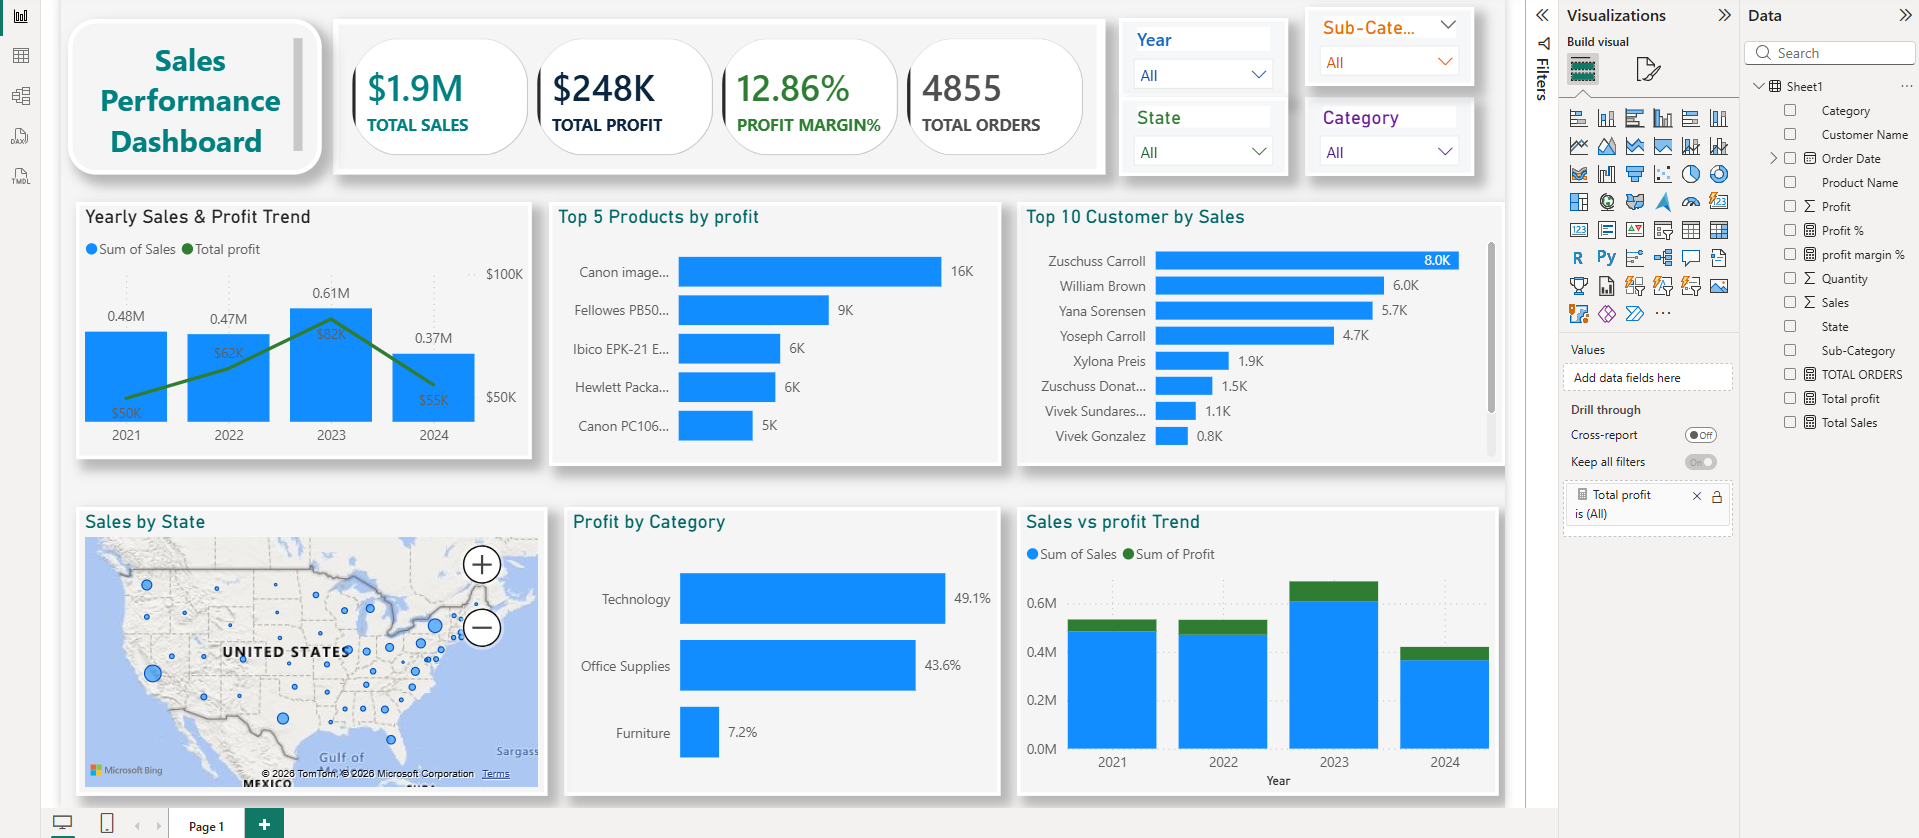

What the dashboard file says about the page in this screenshot:
{"tool":"powerbi","page":{"name":"Page 1","canvas":[1280,720],"ordinal":0},"visuals":[{"type":"cardVisual","title":"Sales Trend by Year ","fields":{"Data":["Sheet1.Total Sales","Sheet1.Total profit","Sheet1.profit margin %","Sheet1.TOTAL ORDERS"]},"box":[241.2,20.4,684.5,138.3],"z":0},{"type":"clusteredBarChart","title":" Profit by Category","fields":{"Category":["Sheet1.Category"],"Y":["Sheet1.Profit %"]},"box":[446,453.1,387.5,256.3],"z":1000},{"type":"barChart","title":"Top 10 Customer by Sales","fields":{"Category":["Sheet1.Customer Name"],"Y":["Sheet1.Sales"]},"box":[847.7,182.7,432.7,234.1],"z":2000},{"type":"map","title":" Sales by State","fields":{"Category":["Sheet1.State"],"Size":["Sheet1.Sales"]},"box":[13.3,453.1,417.6,256.3],"z":3000},{"type":"lineClusteredColumnComboChart","title":"Yearly Sales & Profit Trend","fields":{"Category":["Sheet1.Order Date.Variation.Date Hierarchy.Year"],"Y":["Sheet1.Sales"],"Y2":["Sheet1.Total profit"]},"box":[13.3,182.7,404.3,227.9],"z":4000},{"type":"slicer","fields":{"Values":["Sheet1.Order Date.Variation.Date Hierarchy.Year"]},"box":[938.1,19.5,149.9,70],"z":5000},{"type":"slicer","fields":{"Values":["Sheet1.Category"]},"box":[1103.1,89.6,150,70],"z":6000},{"type":"slicer","fields":{"Values":["Sheet1.State"]},"box":[938.1,89.6,150,70],"z":7000},{"type":"slicer","fields":{"Values":["Sheet1.Sub-Category"]},"box":[1103.1,9.8,150,70],"z":8000},{"type":"lineStackedColumnComboChart","title":"Sales vs profit Trend","fields":{"Category":["Sheet1.Order Date.Variation.Date Hierarchy.Year"],"Y":["Sheet1.Sales","Sheet1.Profit"]},"box":[847.7,453.1,426.5,256.3],"z":9000},{"type":"clusteredBarChart","title":"Top 5 Products by profit","fields":{"Category":["Sheet1.Product Name"],"Y":["Sheet1.Profit"]},"box":[432.7,182.7,400.8,234.1],"z":10000},{"type":"textbox","box":[6.2,20.4,225.2,138.3],"z":11000}]}

Visuals, with their boxes in screenshot pixels (x1, y1, x2, y2):
"Sales Trend by Year " cardVisual: x1=337 y1=28 x2=1097 y2=181
" Profit by Category" clusteredBarChart: x1=565 y1=508 x2=994 y2=792
"Top 10 Customer by Sales" barChart: x1=1010 y1=208 x2=1490 y2=467
" Sales by State" map: x1=85 y1=508 x2=548 y2=792
"Yearly Sales & Profit Trend" lineClusteredColumnComboChart: x1=85 y1=208 x2=533 y2=460
slicer - Sheet1.Order Date.Variation.Date Hierarchy.Year: x1=1110 y1=27 x2=1277 y2=104
slicer - Sheet1.Category: x1=1293 y1=104 x2=1460 y2=182
slicer - Sheet1.State: x1=1110 y1=104 x2=1277 y2=182
slicer - Sheet1.Sub-Category: x1=1293 y1=16 x2=1460 y2=94
"Sales vs profit Trend" lineStackedColumnComboChart: x1=1010 y1=508 x2=1483 y2=792
"Top 5 Products by profit" clusteredBarChart: x1=550 y1=208 x2=994 y2=467
textbox: x1=77 y1=28 x2=327 y2=181
